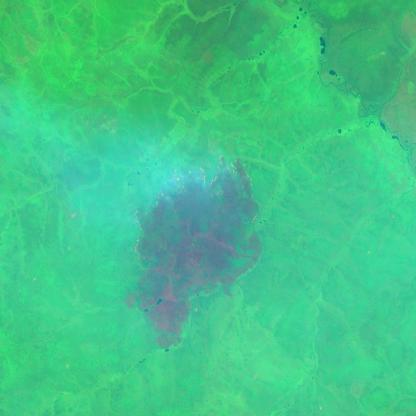fire: (129, 148, 268, 260)
